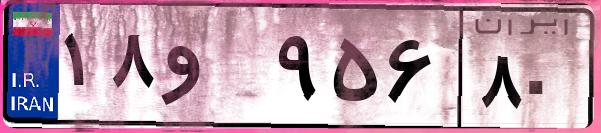0: (525, 38, 570, 115)
1: (57, 26, 110, 100)
5: (330, 28, 385, 110)
6: (385, 28, 445, 110)
8: (475, 38, 525, 113), (110, 28, 158, 98)
9: (270, 28, 330, 110)
و: (158, 20, 270, 120)
